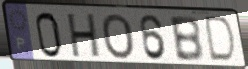0: (34, 11, 65, 60)
6: (138, 13, 167, 63)
B: (168, 15, 206, 64)
D: (204, 15, 238, 66)
H: (66, 12, 102, 60)
O: (100, 13, 137, 61)
